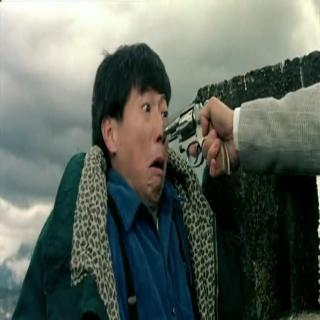gun: (158, 96, 230, 180)
